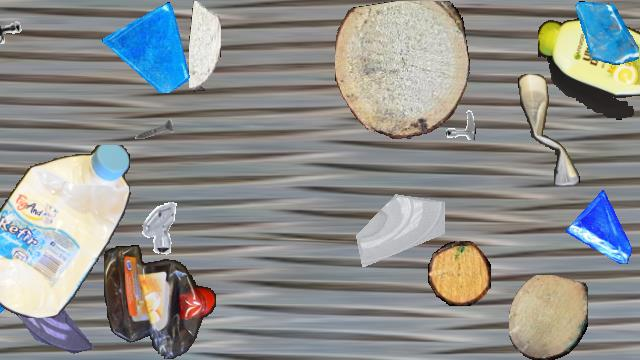glass: (352, 174, 444, 266), (102, 1, 194, 93), (9, 275, 93, 359), (566, 190, 640, 264), (575, 1, 639, 65), (0, 243, 38, 319)
metal: (128, 197, 186, 255), (434, 98, 476, 140), (133, 108, 175, 150), (0, 9, 25, 49)
plastic: (0, 145, 132, 317), (104, 245, 216, 359), (538, 18, 640, 120), (518, 74, 580, 186)
wood: (335, 1, 469, 139), (509, 275, 587, 359), (428, 241, 490, 305), (189, 1, 221, 91)
